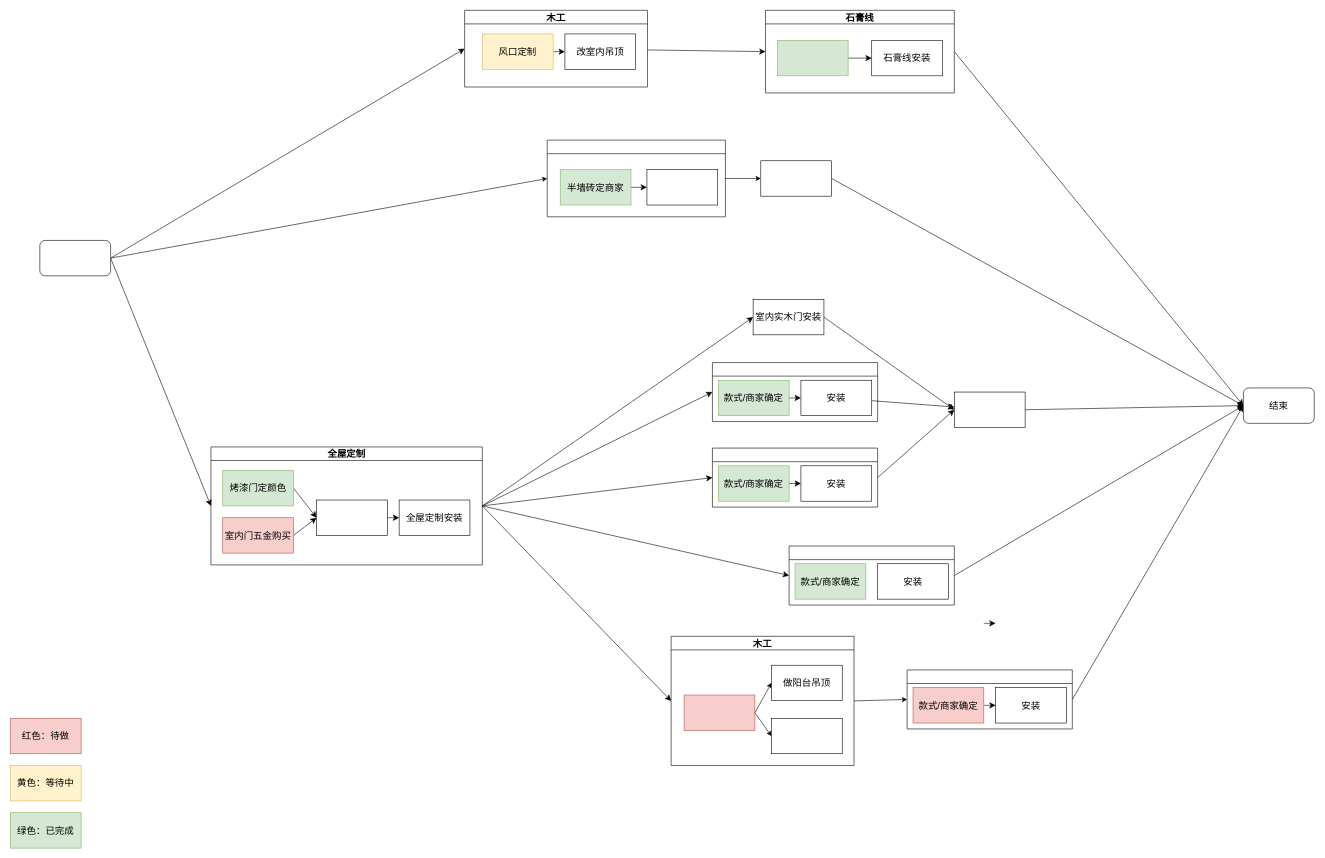
This 1325x858 diagram has some shape labels left out. The shapes that lost their labels are listed below. From the top down, each one's box as (x1, y1, x2, y2) in pixels, then its label:
(777, 40, 848, 76): 款式商家确定
(547, 140, 725, 217): 砖工
(646, 169, 718, 205): 补砖
(760, 160, 832, 196): 补美缝
(39, 240, 111, 276): 开始
(712, 362, 878, 422): 厕所门
(954, 391, 1025, 427): 踢脚线安装
(712, 448, 878, 507): 生活阳台门联窗
(316, 499, 387, 535): 室内实木门、全屋定制生产
(789, 545, 954, 605): 不锈钢台面
(684, 694, 755, 730): 防腐木购买
(907, 669, 1072, 729): 大理石台面
(771, 718, 842, 754): 做餐边基底
